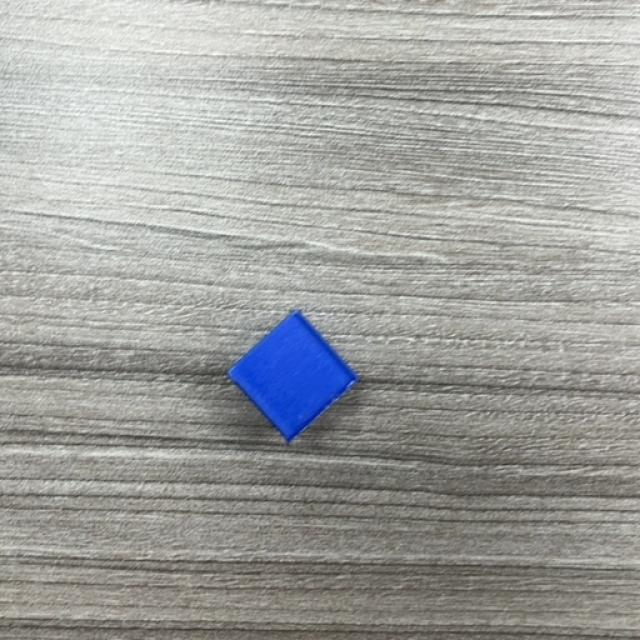Azul: (226, 312, 359, 445)
